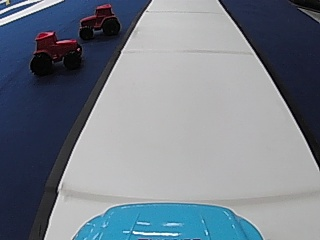Tracktor: (30, 28, 84, 75), (77, 3, 123, 42)
